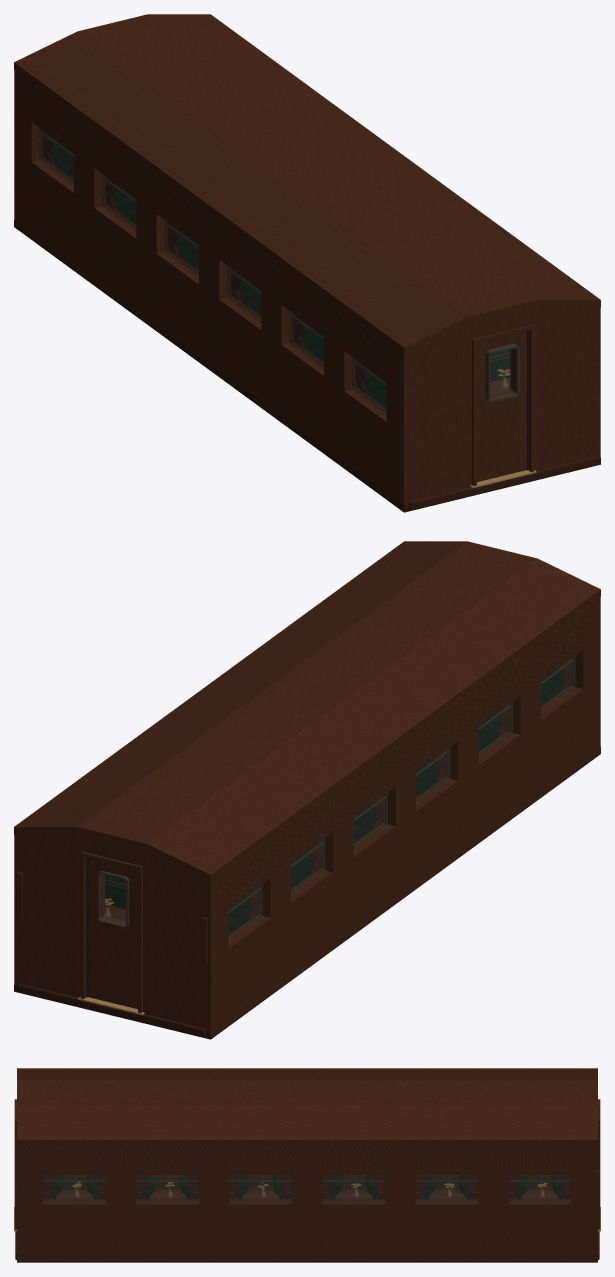
Rendered from train_r06_table_end_material_candidate.glb.
3 views of the same model, one above another, from view 1: azimuth 30°, elevation 25°; view 2: azimuth 150°, elevation 25°; view 3: azimuth 270°, elevation 25° (orthographic). The views are drawn at different scales.
Parts seen in each view (by area): view 1: Complete profiled roof solid, Left full sidewall with six true apertures, Inferred reverse profiled end wall, End door leaf, Continuous underfloor structural solid, Continuous floor shell, Window sill wooden rail, Window -1 4 real dark glazing, Window -1 1 real dark glazing, Window -1 2 real dark glazing, Window -1 5 real dark glazing, Window -1 6 real dark glazing (+6 smaller); view 2: Complete profiled roof solid, Left full sidewall with six true apertures, Observed forward profiled end wall, End door leaf.001, Continuous floor shell, Window sill wooden rail, Window -1 3 real dark glazing, Window -1 6 real dark glazing, Window -1 1 real dark glazing, Window -1 2 real dark glazing, Window -1 5 real dark glazing, Window -1 4 real dark glazing (+6 smaller); view 3: Right full sidewall with six true apertures, Complete profiled roof solid, Window 1 1 real dark glazing, Window 1 2 real dark glazing, Window 1 5 real dark glazing, Window 1 6 real dark glazing, Window 1 3 real dark glazing, Window 1 4 real dark glazing, Window sill wooden rail.001, Continuous underfloor structural solid, Continuous side floor skirting -1, Continuous floor shell (+9 smaller).
Part boxes in pixels (left/top/right/bottom): Complete profiled roof solid: left=14, top=14, right=600, bottom=355; Left full sidewall with six true apertures: left=14, top=65, right=412, bottom=510; Inferred reverse profiled end wall: left=400, top=307, right=600, bottom=505; End door leaf: left=477, top=330, right=526, bottom=481; Continuous underfloor structural solid: left=14, top=220, right=600, bottom=512; Continuous floor shell: left=408, top=456, right=596, bottom=510; Window sill wooden rail: left=38, top=158, right=386, bottom=415; Window -1 4 real dark glazing: left=164, top=220, right=198, bottom=276; Window -1 1 real dark glazing: left=352, top=357, right=386, bottom=413; Window -1 2 real dark glazing: left=289, top=311, right=323, bottom=367; Window -1 5 real dark glazing: left=102, top=174, right=136, bottom=230; Window -1 6 real dark glazing: left=39, top=128, right=73, bottom=184; Complete profiled roof solid: left=14, top=541, right=600, bottom=882; Left full sidewall with six true apertures: left=202, top=592, right=600, bottom=1037; Observed forward profiled end wall: left=14, top=834, right=214, bottom=1031; End door leaf.001: left=88, top=857, right=137, bottom=1008; Continuous floor shell: left=18, top=983, right=206, bottom=1037; Window sill wooden rail: left=228, top=685, right=576, bottom=942; Window -1 3 real dark glazing: left=416, top=747, right=450, bottom=803; Window -1 6 real dark glazing: left=228, top=884, right=262, bottom=940; Window -1 1 real dark glazing: left=541, top=655, right=575, bottom=711; Window -1 2 real dark glazing: left=478, top=701, right=512, bottom=757; Window -1 5 real dark glazing: left=291, top=838, right=325, bottom=894; Window -1 4 real dark glazing: left=353, top=793, right=387, bottom=848; Right full sidewall with six true apertures: left=17, top=1142, right=597, bottom=1261; Complete profiled roof solid: left=17, top=1068, right=597, bottom=1145; Window 1 1 real dark glazing: left=43, top=1175, right=105, bottom=1201; Window 1 2 real dark glazing: left=136, top=1175, right=198, bottom=1201; Window 1 5 real dark glazing: left=416, top=1175, right=478, bottom=1201; Window 1 6 real dark glazing: left=509, top=1175, right=571, bottom=1201; Window 1 3 real dark glazing: left=230, top=1175, right=291, bottom=1201; Window 1 4 real dark glazing: left=323, top=1175, right=384, bottom=1201; Window sill wooden rail.001: left=43, top=1199, right=571, bottom=1202; Continuous underfloor structural solid: left=17, top=1256, right=597, bottom=1262; Continuous side floor skirting -1: left=62, top=1180, right=552, bottom=1187; Continuous floor shell: left=15, top=1187, right=599, bottom=1259.
Bounding box in the file's own units: 3.27 × 2.86 × 11.35.
Materials: 19 (7 with a texture image).
